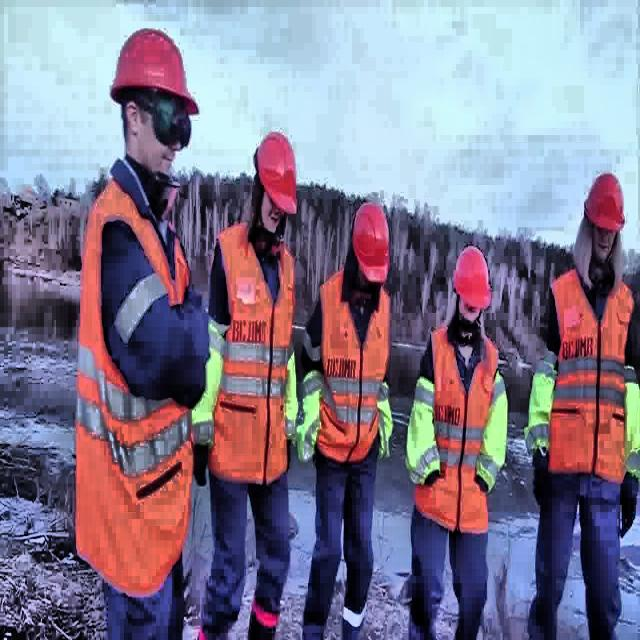safety_helmet: (111, 28, 203, 114), (254, 136, 302, 210), (347, 199, 390, 281), (453, 244, 491, 306), (585, 172, 624, 230)
safety_jacket: (73, 178, 191, 594), (218, 215, 290, 482), (544, 267, 624, 480), (413, 327, 491, 533), (319, 254, 392, 462), (406, 372, 444, 485), (196, 312, 226, 450), (473, 372, 507, 491), (526, 352, 554, 456), (619, 360, 639, 476), (300, 368, 326, 446), (285, 349, 299, 438), (378, 380, 393, 452)
